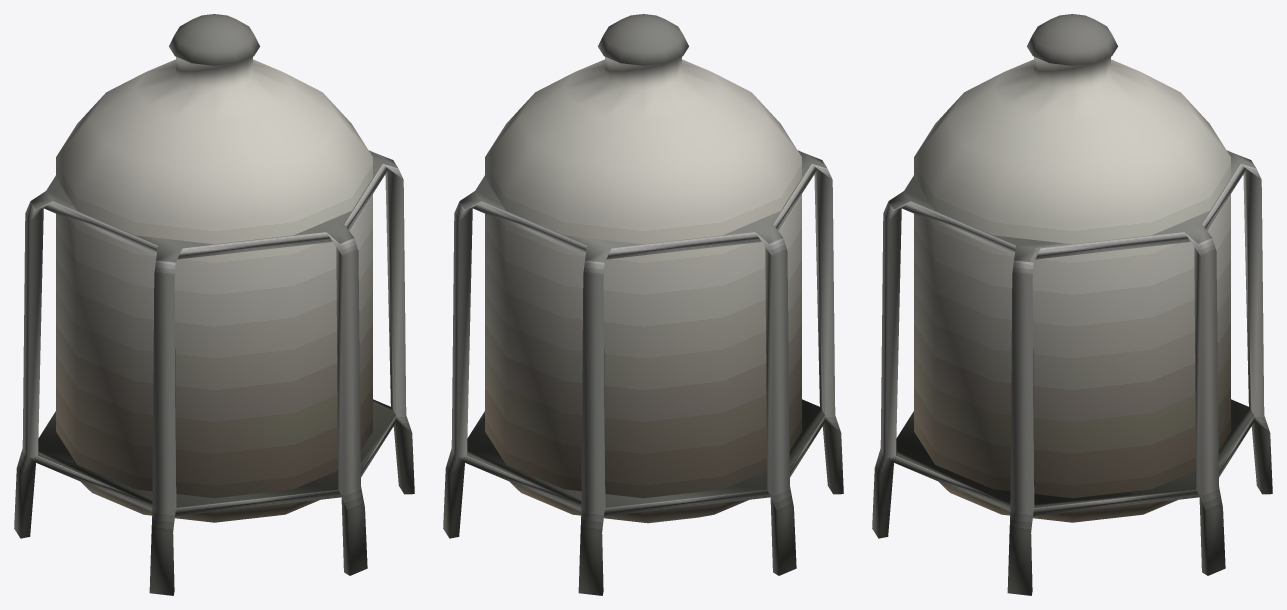
Rendered from DL_Obj_Level3_MachineryTank1.fbx.
3 renders of one model, left to right at view 1: azimuth 30°, elevation 25°; view 2: azimuth 150°, elevation 25°; view 3: azimuth 270°, elevation 25°, orthographic.
Visible parts, largest first — view 1: Level3_MachineryTank1; view 2: Level3_MachineryTank1; view 3: Level3_MachineryTank1.
Part boxes in pixels (x1,y1,x2,y2): Level3_MachineryTank1: [14, 14, 414, 595]; Level3_MachineryTank1: [443, 14, 843, 595]; Level3_MachineryTank1: [872, 14, 1272, 595].
Size of the model in its own units: 253 by 342 by 253.
